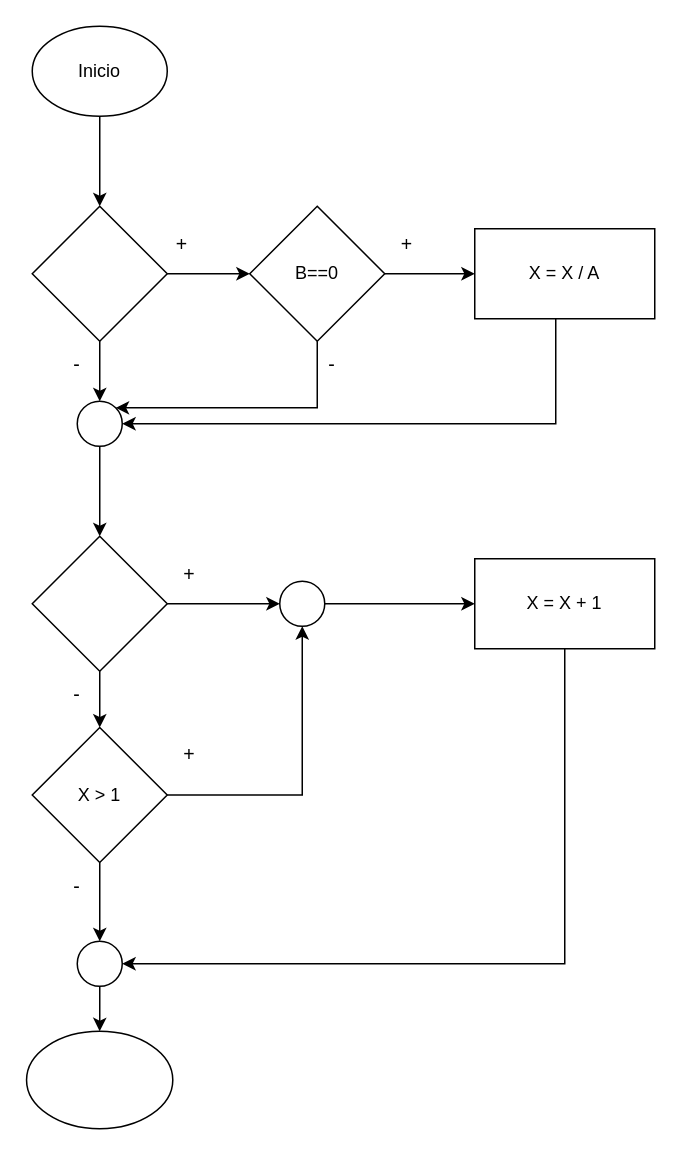
Some shapes in this 681 by 1155 pixel diagram are drawn without their labels. The shapes that lost their labels are listed below. From the top down, each one's centre as x and y in pixels, then its label:
At point 99,273: "A > 1".
At point 99,603: "A == 2".
At point 99,1079: "Fin".
